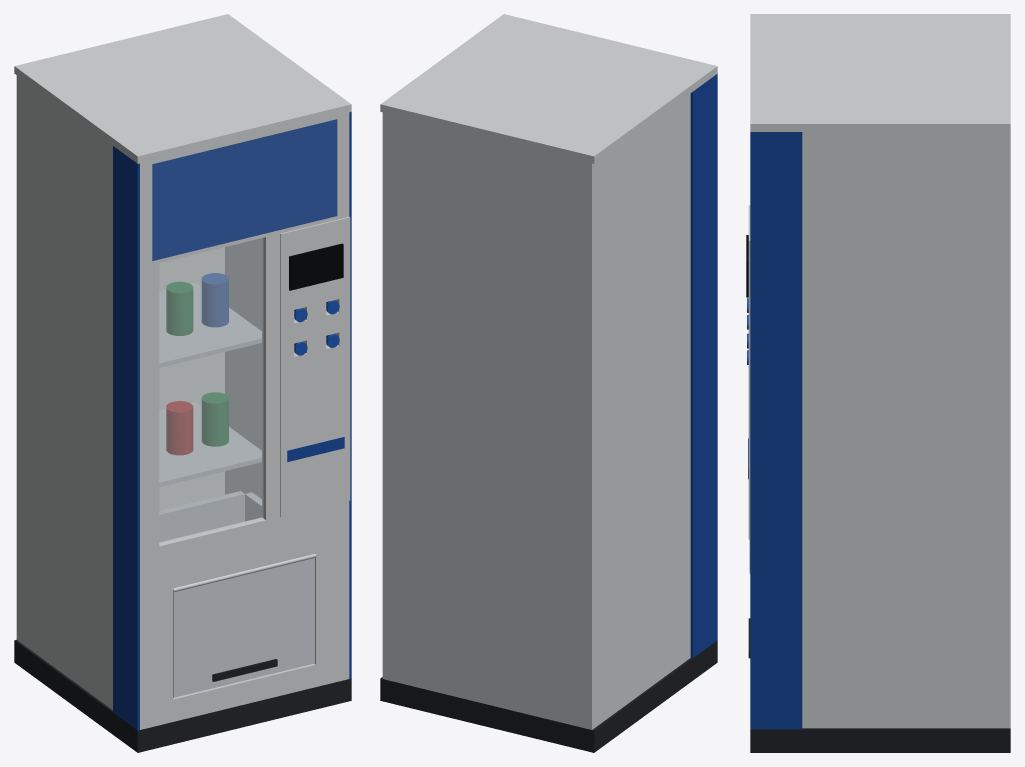
File: vending.glb
3 renders of one model, left to right at view 1: azimuth 30°, elevation 25°; view 2: azimuth 150°, elevation 25°; view 3: azimuth 270°, elevation 25°, orthographic. The views are drawn at different scales.
Visible parts, largest first — view 1: cabinet, collection_flap; view 2: cabinet; view 3: cabinet.
Part boxes in pixels (x1=…): cabinet: x1=14, y1=14, x2=351, y2=752; collection_flap: x1=173, y1=553, x2=316, y2=697; cabinet: x1=380, y1=14, x2=717, y2=752; cabinet: x1=746, y1=14, x2=1010, y2=752.
Bounding box in the file's own units: 0.6 × 1.6 × 0.6093.
